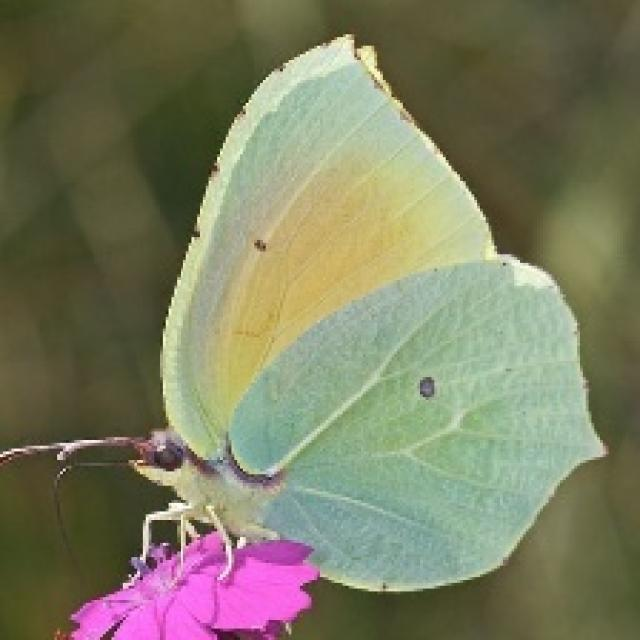butterfly: (0, 29, 609, 612)
